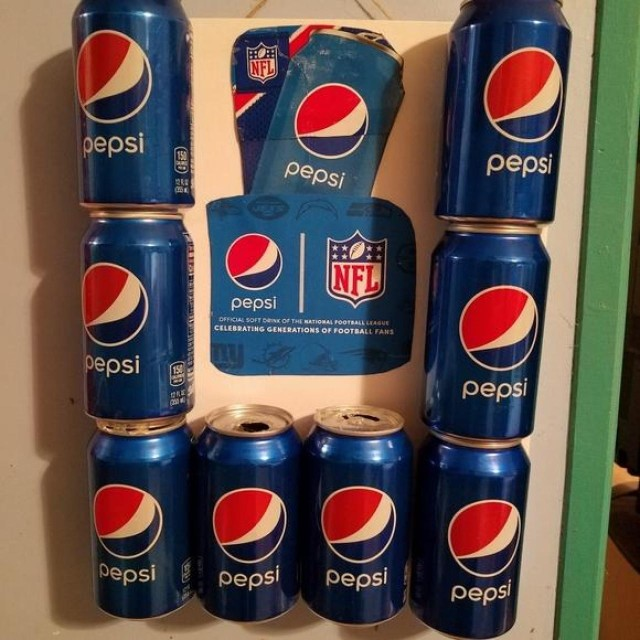pepsi: (485, 44, 573, 151), (76, 29, 159, 131), (449, 496, 536, 582), (457, 288, 545, 371), (321, 483, 407, 566), (292, 75, 372, 157), (79, 261, 154, 348), (211, 487, 291, 568), (91, 481, 166, 565), (226, 232, 288, 291)
